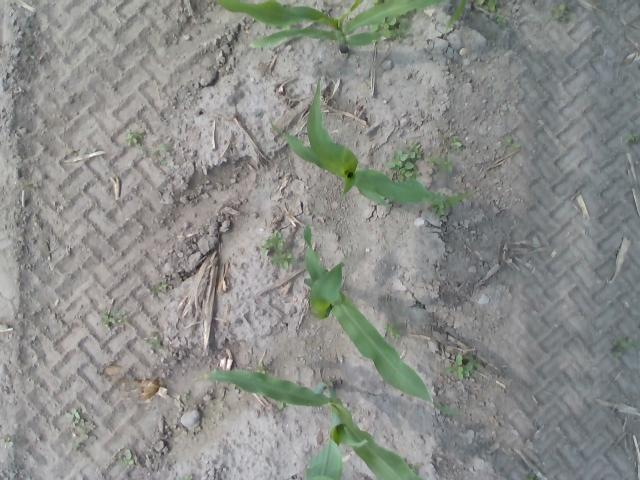Maize: (303, 223, 456, 416), (267, 74, 476, 210), (208, 369, 424, 480), (218, 0, 465, 55)
Weeds: (390, 152, 414, 178), (446, 354, 464, 380), (264, 230, 284, 252), (270, 250, 290, 268), (554, 1, 572, 20), (382, 19, 397, 38), (432, 155, 451, 170), (121, 449, 134, 468), (464, 357, 476, 377), (154, 144, 173, 156), (386, 324, 400, 340), (395, 21, 408, 38), (64, 410, 81, 422), (478, 0, 498, 9), (126, 132, 138, 146), (506, 136, 518, 148), (620, 339, 634, 349), (148, 340, 162, 350), (103, 315, 114, 326), (497, 14, 509, 23), (414, 148, 424, 158), (627, 134, 638, 143), (452, 140, 462, 147), (159, 284, 168, 290)
